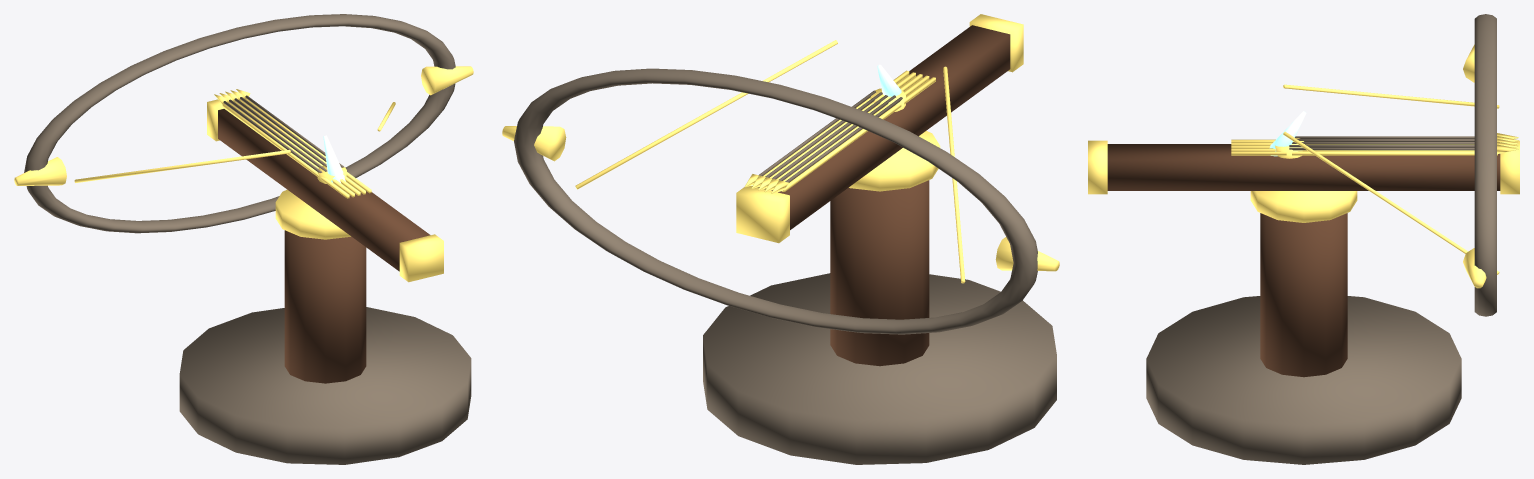
File: no_than_kim_quy.glb
3 views of the same model, side by side, from view 1: azimuth 30°, elevation 25°; view 2: azimuth 150°, elevation 25°; view 3: azimuth 270°, elevation 25° (orthographic). The views are drawn at different scales.
Parts seen in each view (by area): view 1: No_Than_Lien_Chau; view 2: No_Than_Lien_Chau; view 3: No_Than_Lien_Chau.
Part boxes in pixels (bbox=[...]): No_Than_Lien_Chau: bbox=[14, 14, 473, 464]; No_Than_Lien_Chau: bbox=[502, 14, 1059, 464]; No_Than_Lien_Chau: bbox=[1088, 14, 1519, 464].
Bounding box in the file's own units: 2.32 × 1.52 × 1.78.
